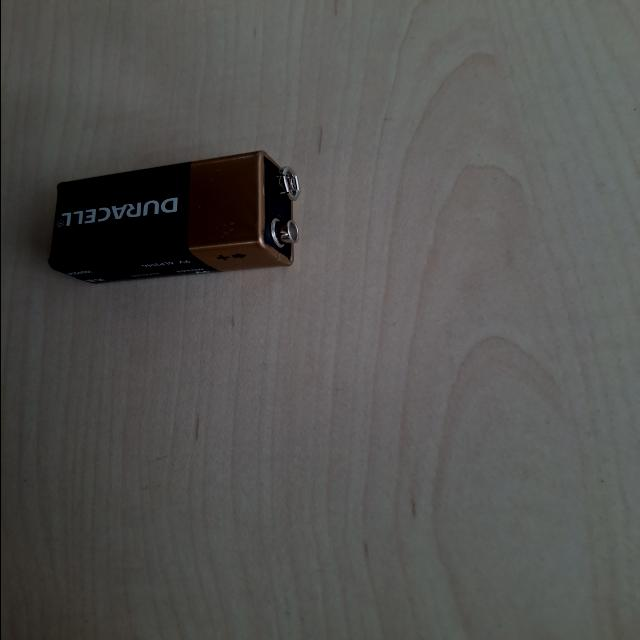9V: (264, 36, 438, 224)
